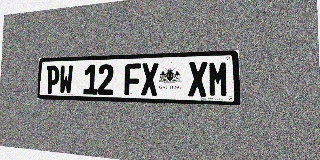1: (83, 64, 98, 95)
2: (98, 64, 114, 95)
F: (124, 63, 141, 95)
M: (208, 61, 229, 97)
P: (46, 65, 60, 94)
W: (59, 65, 73, 94)
X: (188, 61, 207, 97), (141, 63, 158, 96)
